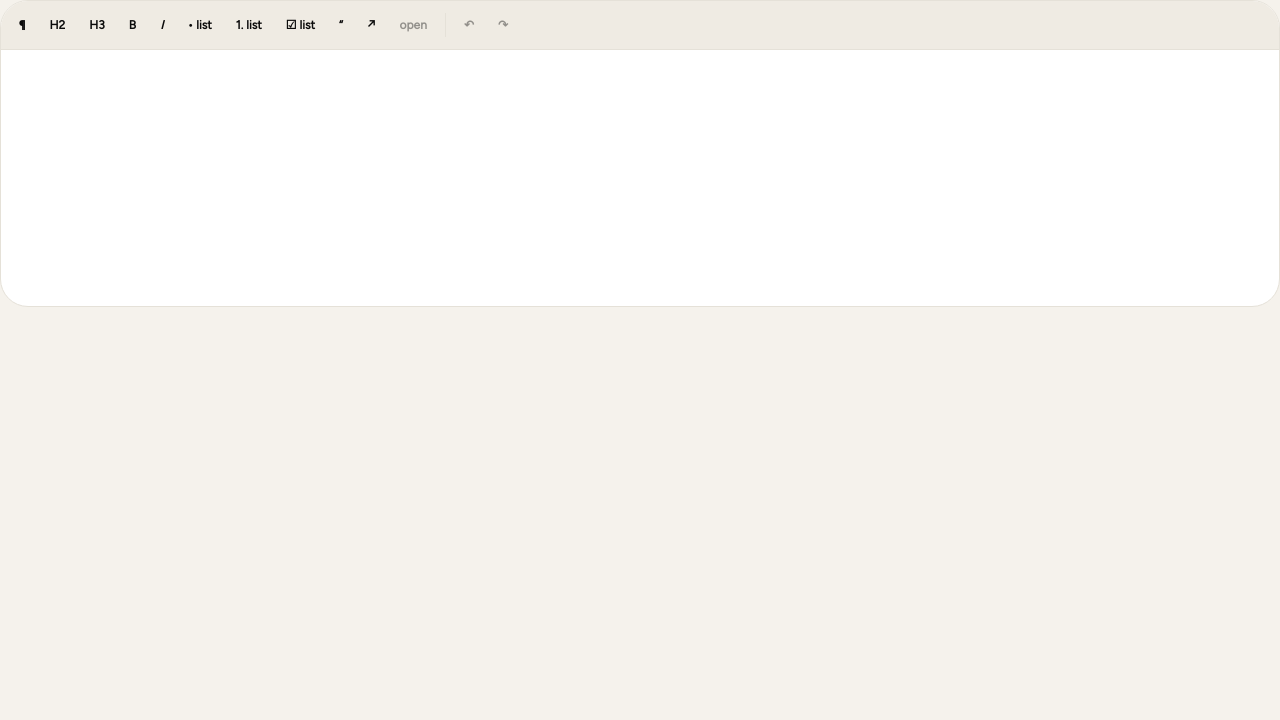
Test: RichTextEditor › rejects unsafe links without adding executable URL content
Click the button named "Link": (371, 25) x1=357 y1=9 x2=386 y2=41
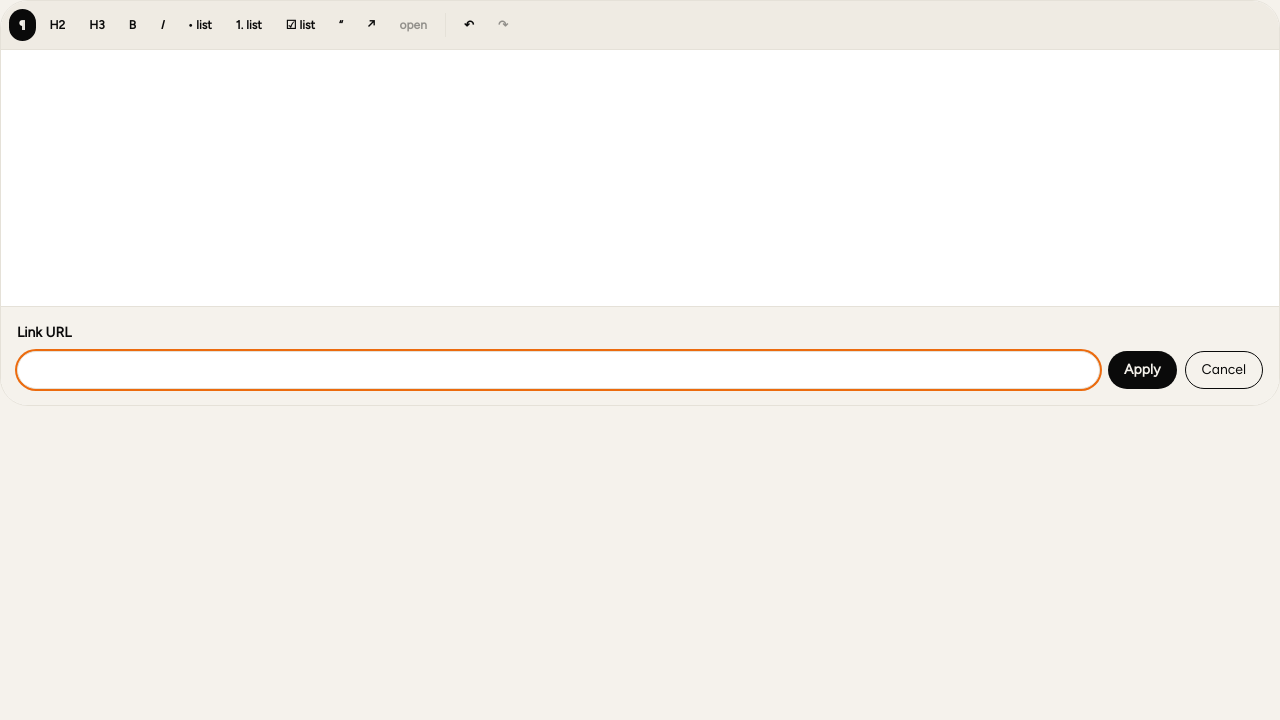
In the field labelled "Link URL": (559, 370) x1=17 y1=351 x2=1100 y2=389, type "javascript:alert(1)"
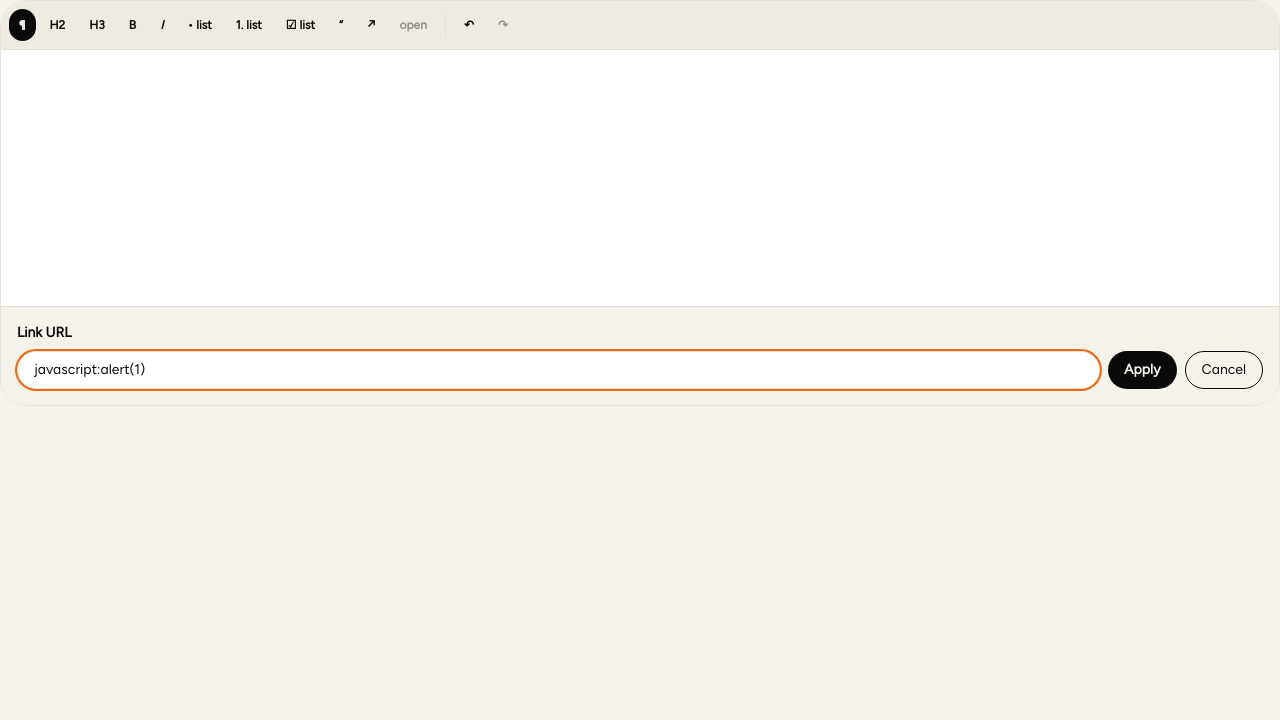
Click the button "Apply": (1142, 370) x1=1108 y1=351 x2=1177 y2=389
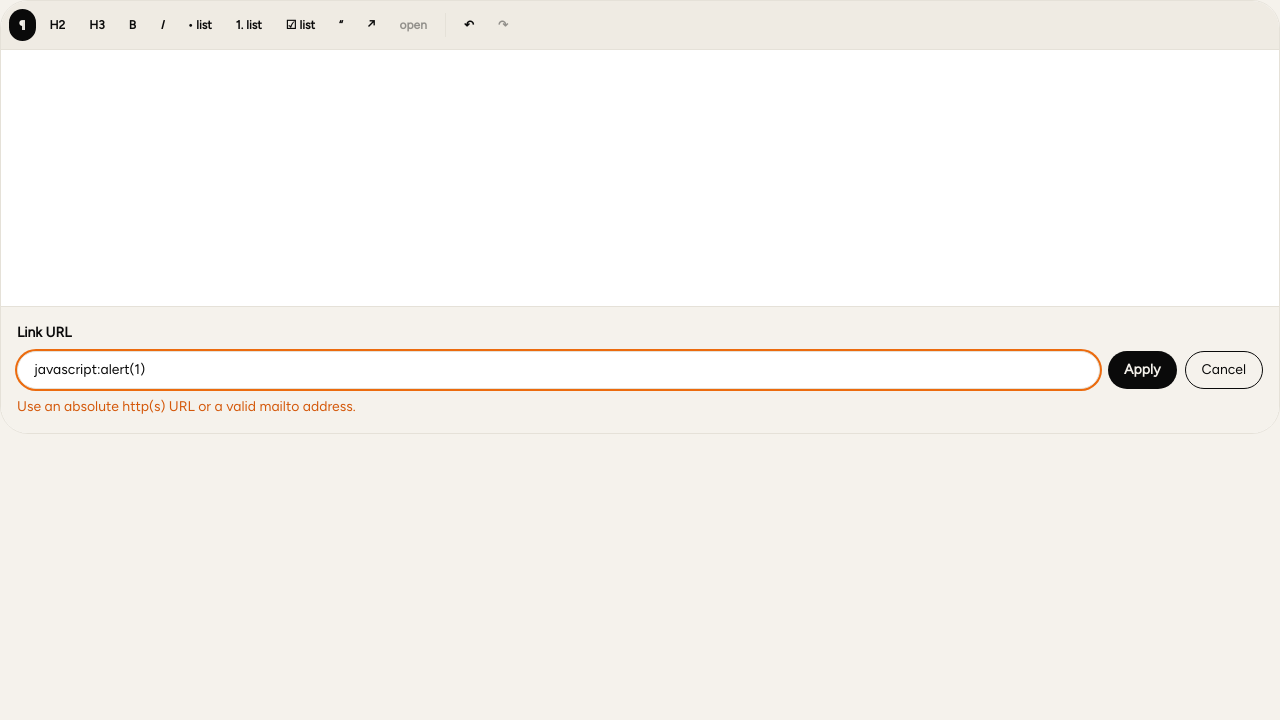
Check: the message shows "absolute http(s)", box x1=17 y1=398 x2=356 y2=415
